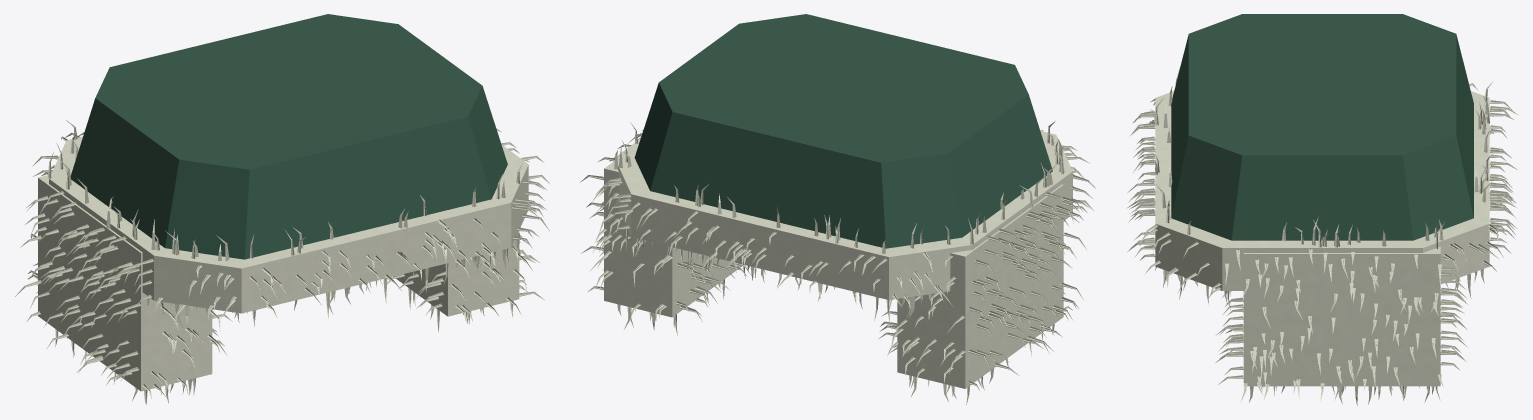
Rendered from ushanka.glb.
3 renders of one model, left to right at view 1: azimuth 30°, elevation 25°; view 2: azimuth 150°, elevation 25°; view 3: azimuth 270°, elevation 25°, orthographic. The views are drawn at different scales.
Parts seen in each view (by area): view 1: Ranger Ushanka.002, Ranger Ushanka.002 / shearling / game fur; view 2: Ranger Ushanka.002, Ranger Ushanka.002 / shearling / game fur; view 3: Ranger Ushanka.002, Ranger Ushanka.002 / shearling / game fur.
Part boxes in pixels (<box>): Ranger Ushanka.002: <box>38,14,528,391</box>; Ranger Ushanka.002 / shearling / game fur: <box>15,120,550,404</box>; Ranger Ushanka.002: <box>604,14,1072,388</box>; Ranger Ushanka.002 / shearling / game fur: <box>580,121,1096,405</box>; Ranger Ushanka.002: <box>1155,14,1489,386</box>; Ranger Ushanka.002 / shearling / game fur: <box>1127,66,1517,405</box>.
Bounding box in the file's own units: 0.7981 × 0.4467 × 0.6576.
Materials: 3 (2 with a texture image).
